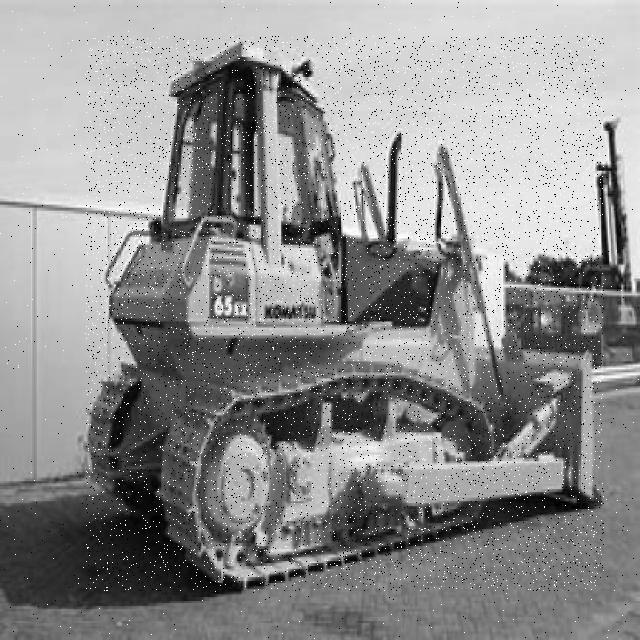Construction Equipment: (86, 36, 604, 591)
